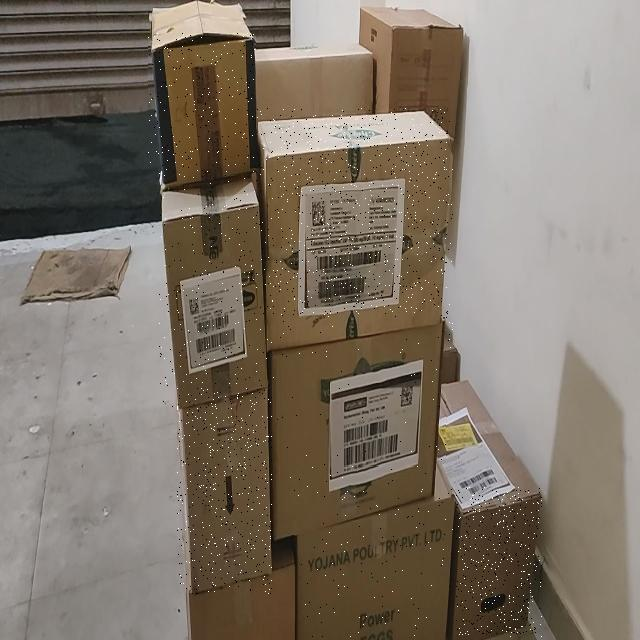BoxFace: (257, 108, 453, 350), (268, 318, 446, 542), (294, 466, 456, 638), (159, 175, 267, 407), (177, 386, 272, 594), (148, 34, 256, 190), (456, 487, 542, 637)
